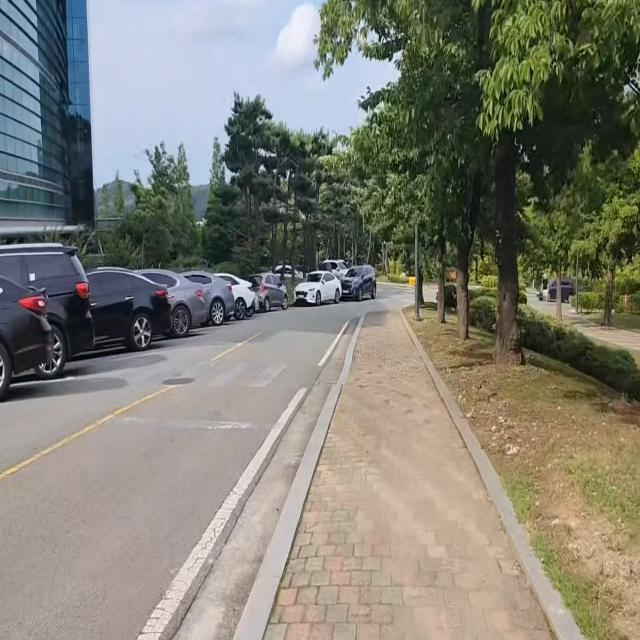obstacle: (0, 244, 292, 381), (0, 256, 58, 401), (293, 255, 378, 309)
road: (0, 302, 363, 640)
sidewalk: (231, 309, 588, 640)
